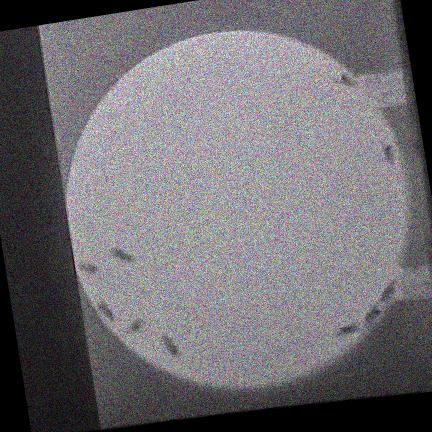fly: (160, 334, 180, 358), (109, 247, 134, 264), (96, 300, 114, 322), (363, 304, 380, 325), (122, 319, 144, 334), (379, 281, 394, 302), (336, 323, 360, 336), (332, 74, 356, 86), (381, 143, 393, 164), (78, 263, 95, 274)
